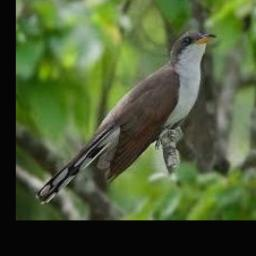Cuckoo: (35, 32, 216, 203)
